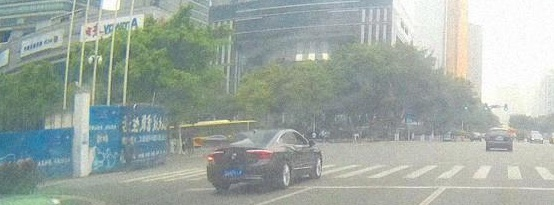L_light: (207, 151, 225, 162), (486, 136, 490, 140)
R_light: (246, 149, 274, 163), (508, 135, 512, 140)
T_light: (248, 131, 260, 134), (496, 129, 503, 131)
day-left: (206, 130, 282, 192)
day-no: (485, 128, 513, 152)
